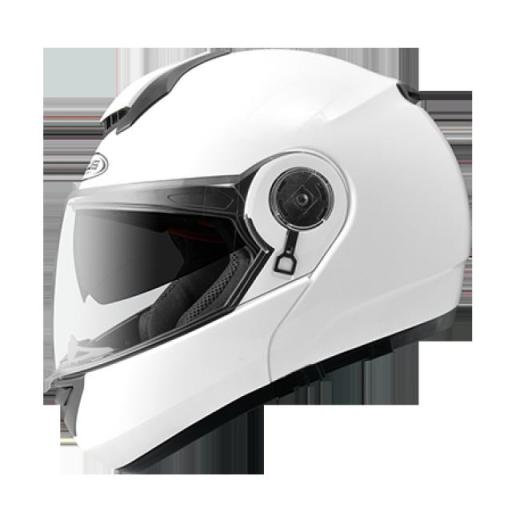Helmet: (44, 51, 480, 481)
